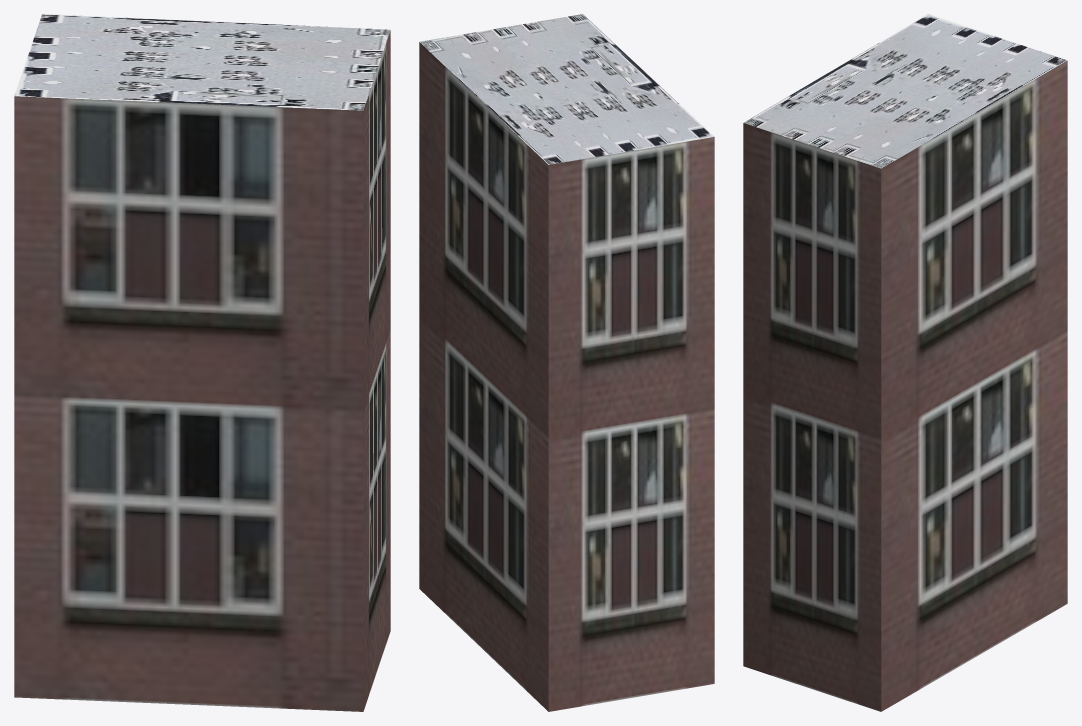
File: ResTex__335.fbx
The picture shows the model from 3 angles, left to right: view 1: azimuth 30°, elevation 25°; view 2: azimuth 150°, elevation 25°; view 3: azimuth 270°, elevation 25°; orthographic projection. The views are drawn at different scales.
Visible parts, largest first — view 1: CityEngineMaterial_12_m, CityEngineMaterial_4_m; view 2: CityEngineMaterial_12_m, CityEngineMaterial_4_m; view 3: CityEngineMaterial_12_m, CityEngineMaterial_4_m.
Boxes of the visible parts, box(x1,y1,x2,y2) form: CityEngineMaterial_12_m: box(14, 30, 390, 711); CityEngineMaterial_4_m: box(14, 14, 390, 110); CityEngineMaterial_12_m: box(419, 42, 714, 711); CityEngineMaterial_4_m: box(419, 14, 714, 164); CityEngineMaterial_12_m: box(743, 60, 1067, 711); CityEngineMaterial_4_m: box(744, 14, 1067, 168).
Bounding box in the file's own units: 3.66 × 6 × 3.25.
2 materials, 2 textured.
